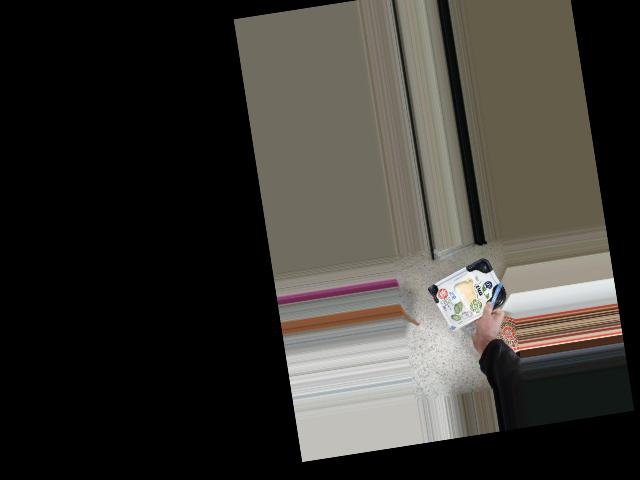cheese: (433, 265, 501, 325)
